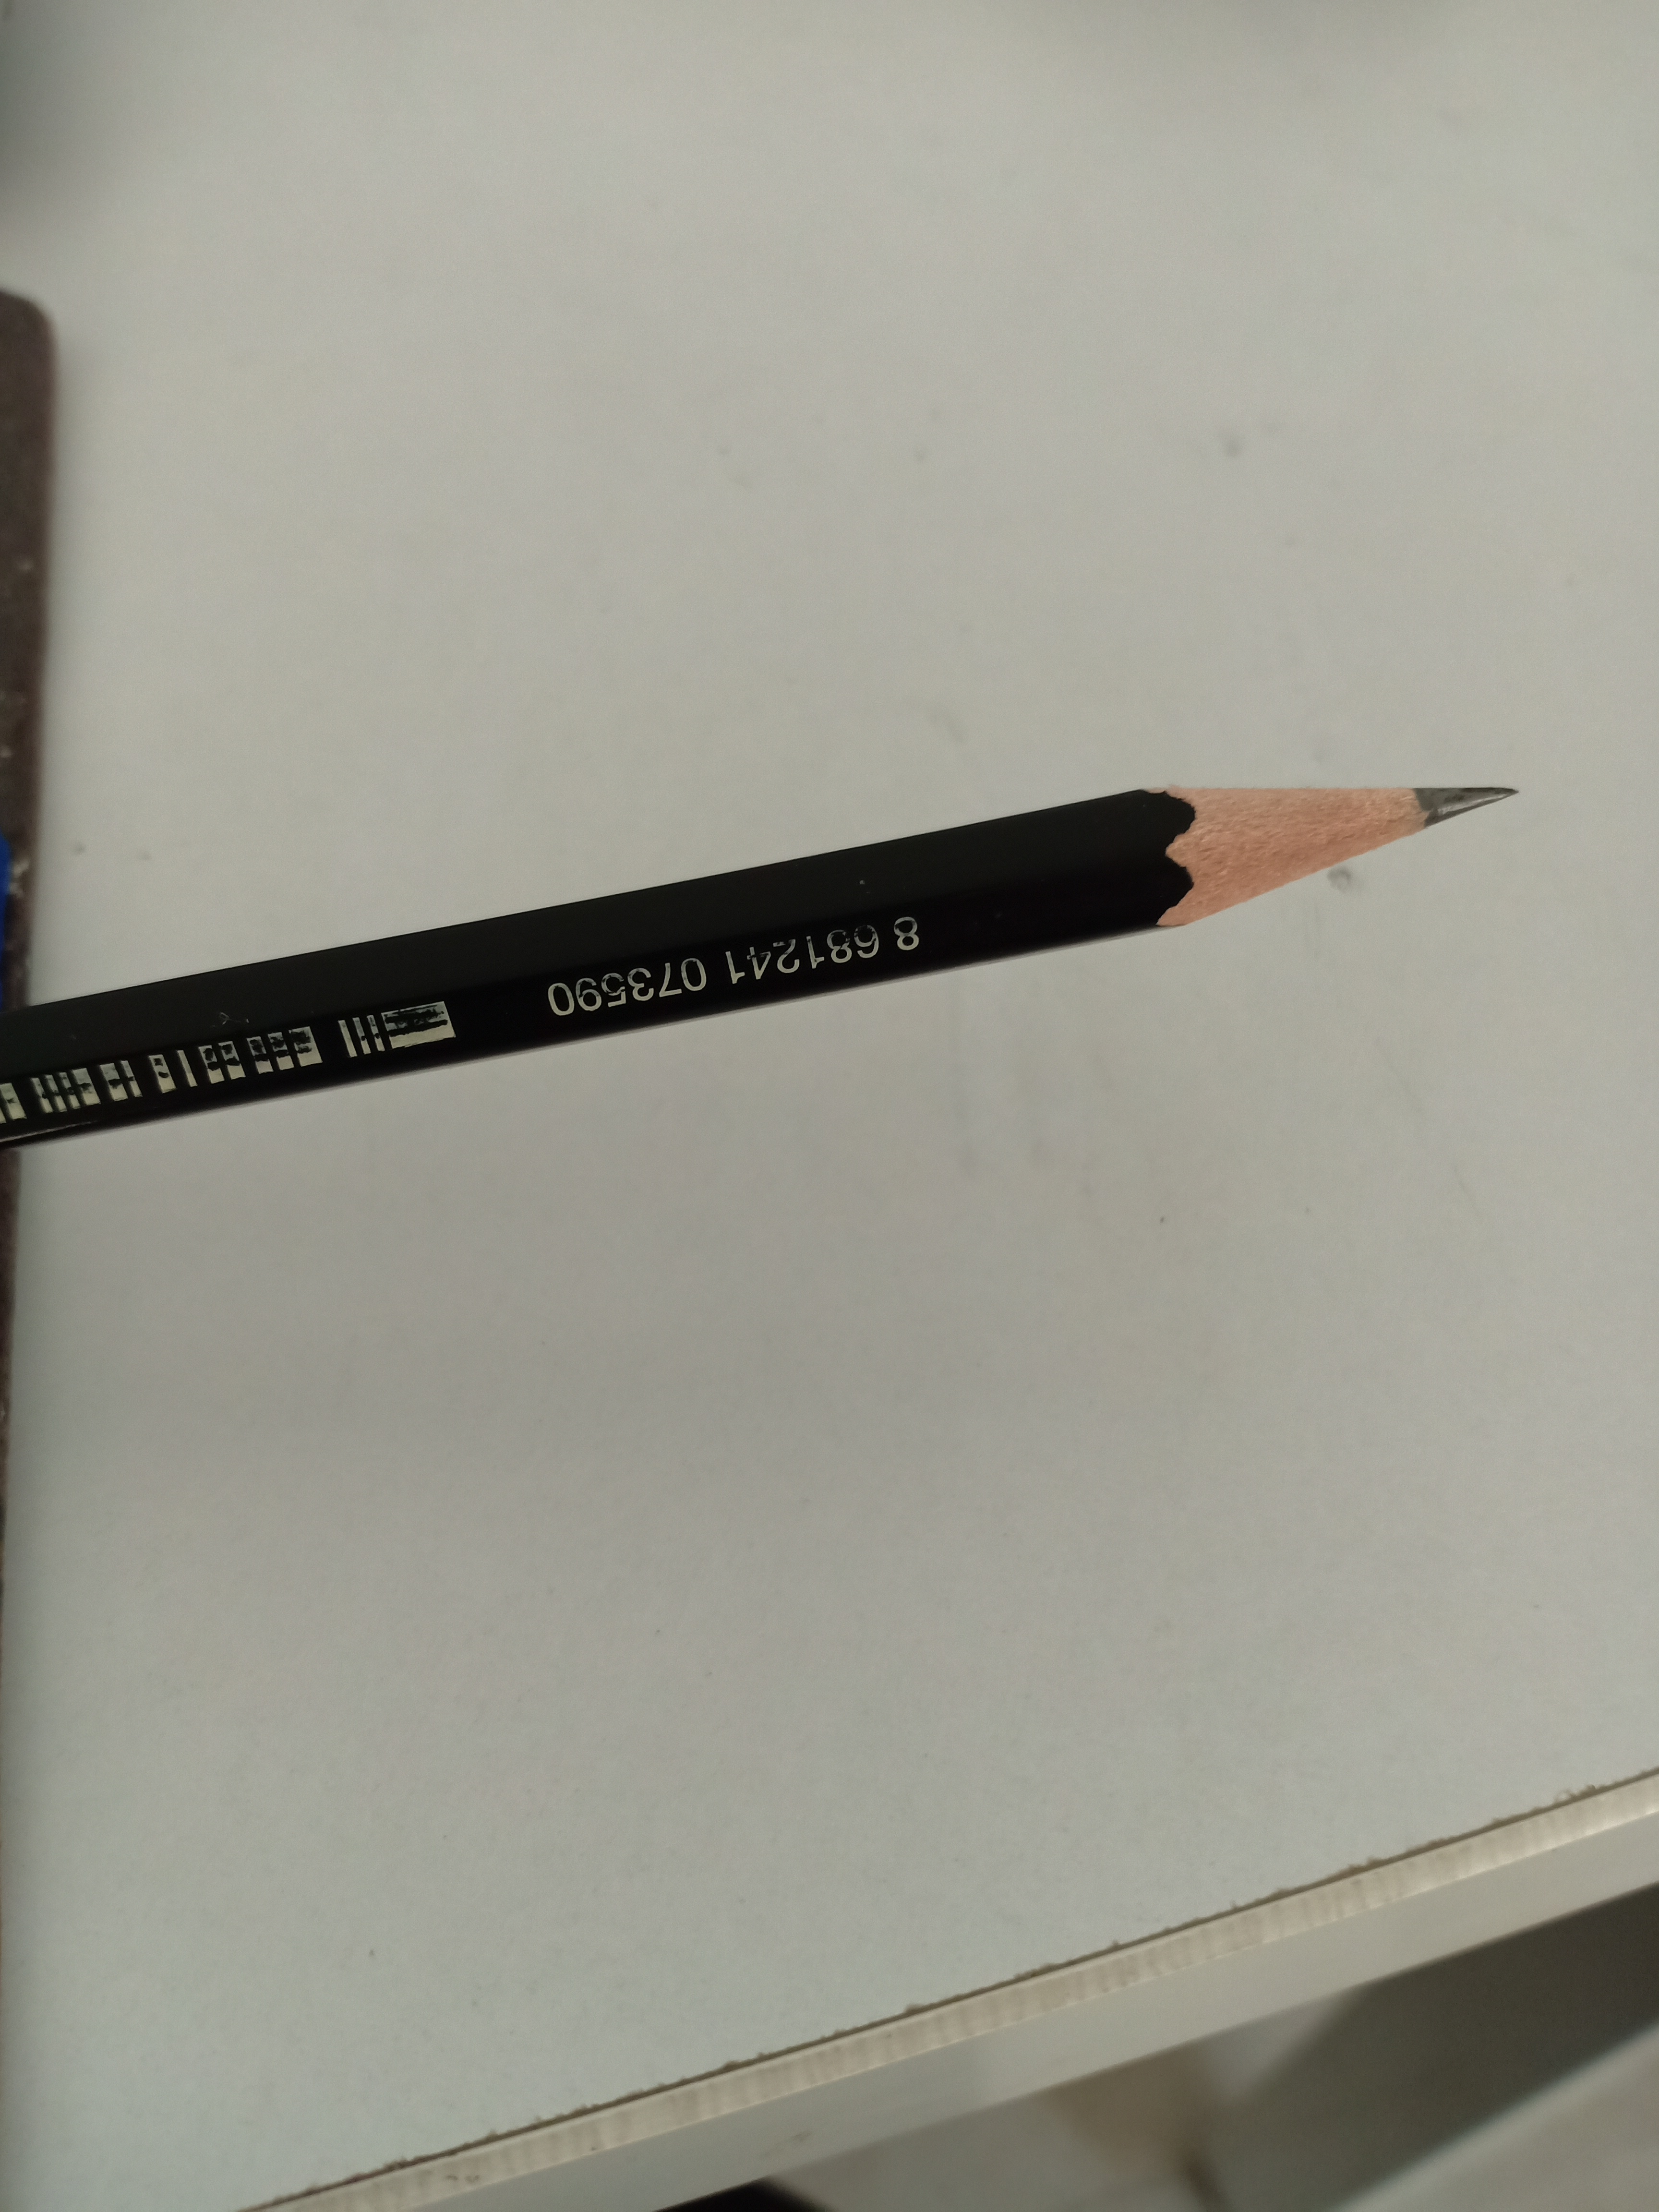pen_tip: (1002, 634, 1546, 1007)
